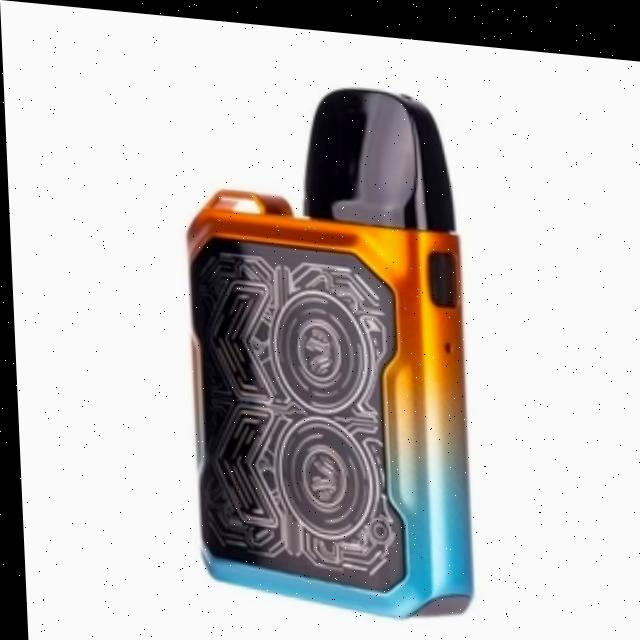vape: (177, 64, 473, 615)
